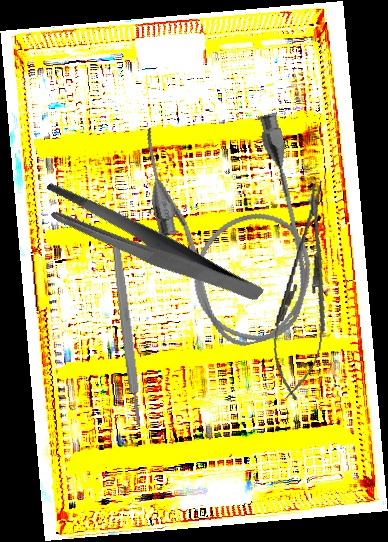Cannula: (134, 97, 330, 360)
Dressing Forceps: (34, 140, 265, 352)
Needle Holder: (265, 181, 344, 403)
Scalpel Handle: (109, 233, 144, 428)
